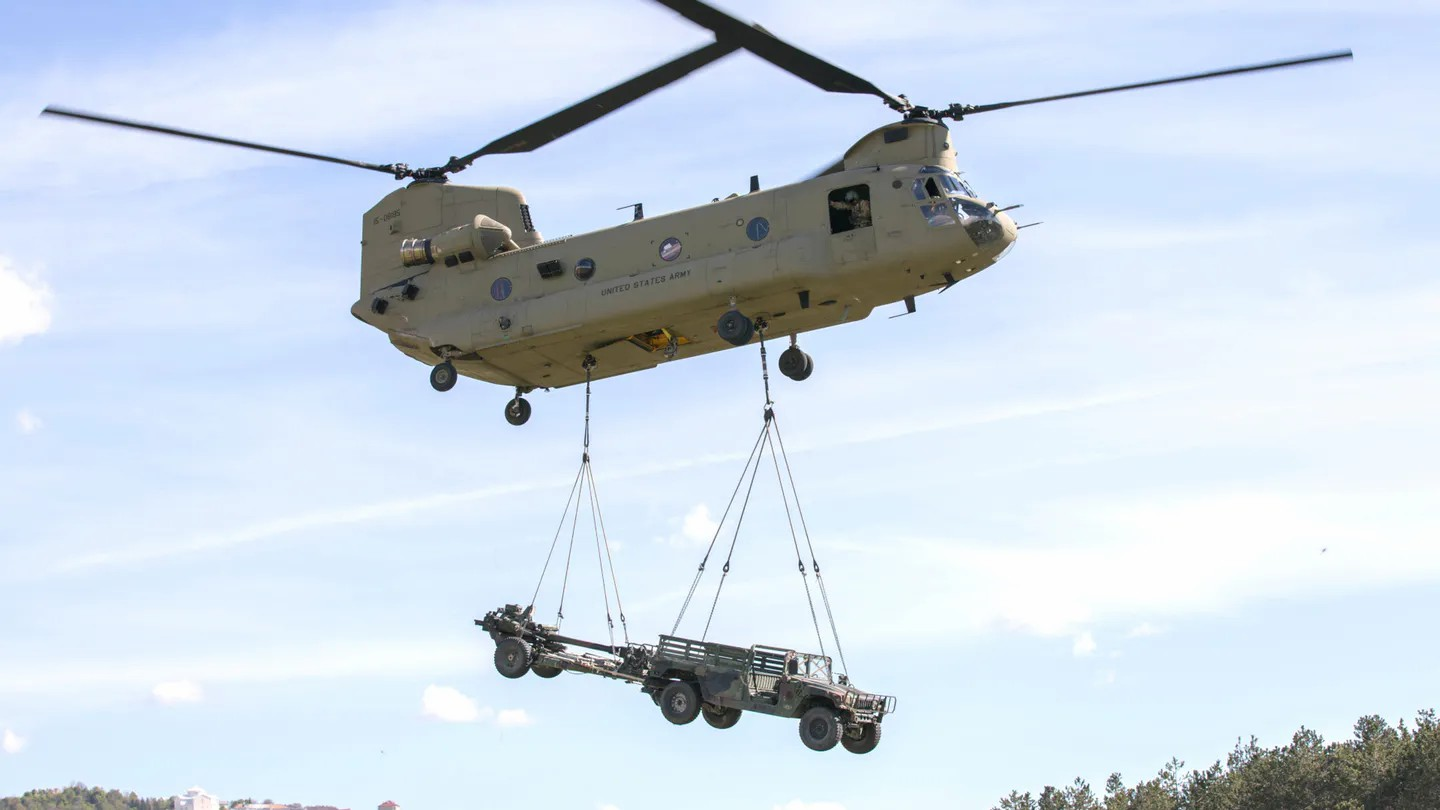HMMWV: (637, 547, 924, 776)
chinook: (299, 61, 1040, 440)
